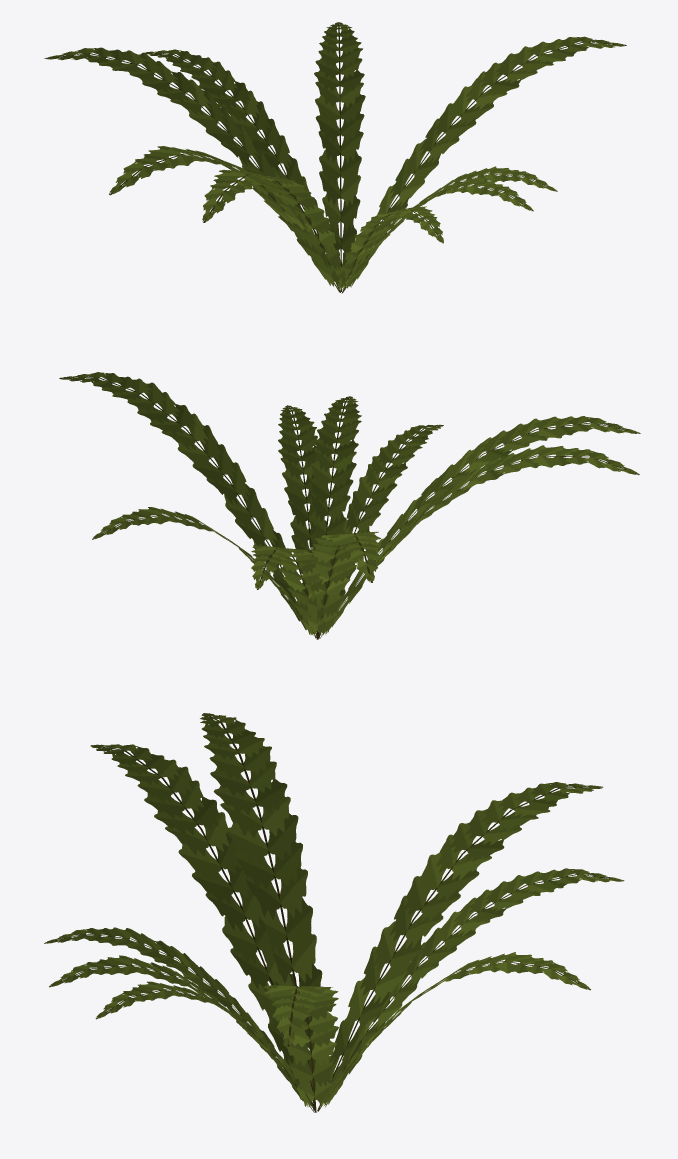
The model's file is fern_1_burnt2.glb.
3 renders of one model, top to bottom at view 1: azimuth 30°, elevation 25°; view 2: azimuth 150°, elevation 25°; view 3: azimuth 270°, elevation 25°, orthographic. The views are drawn at different scales.
Parts seen in each view (by area): view 1: fern_1_burnt2; view 2: fern_1_burnt2; view 3: fern_1_burnt2.
Boxes of the visible parts, x1,y1,x2,y2 form: fern_1_burnt2: (44, 22, 626, 293); fern_1_burnt2: (59, 372, 640, 639); fern_1_burnt2: (44, 713, 624, 1112).
Bounding box in the file's own units: 1.85 × 0.6493 × 1.5.
Materials: 1 (1 with a texture image).
